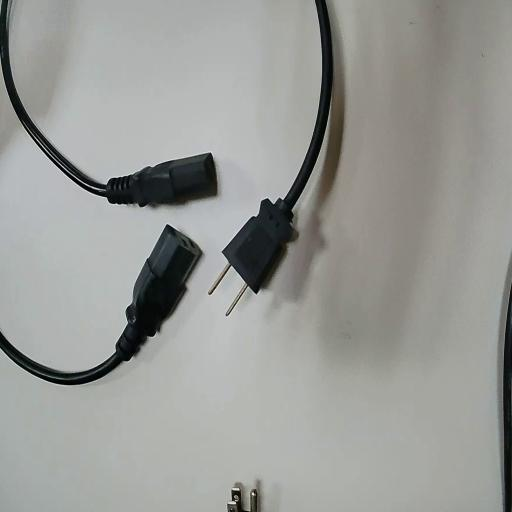wire: (0, 0, 216, 205), (225, 0, 333, 291), (0, 240, 200, 383)
